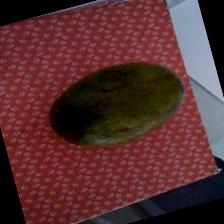Orange Rotten: (32, 42, 200, 167)
